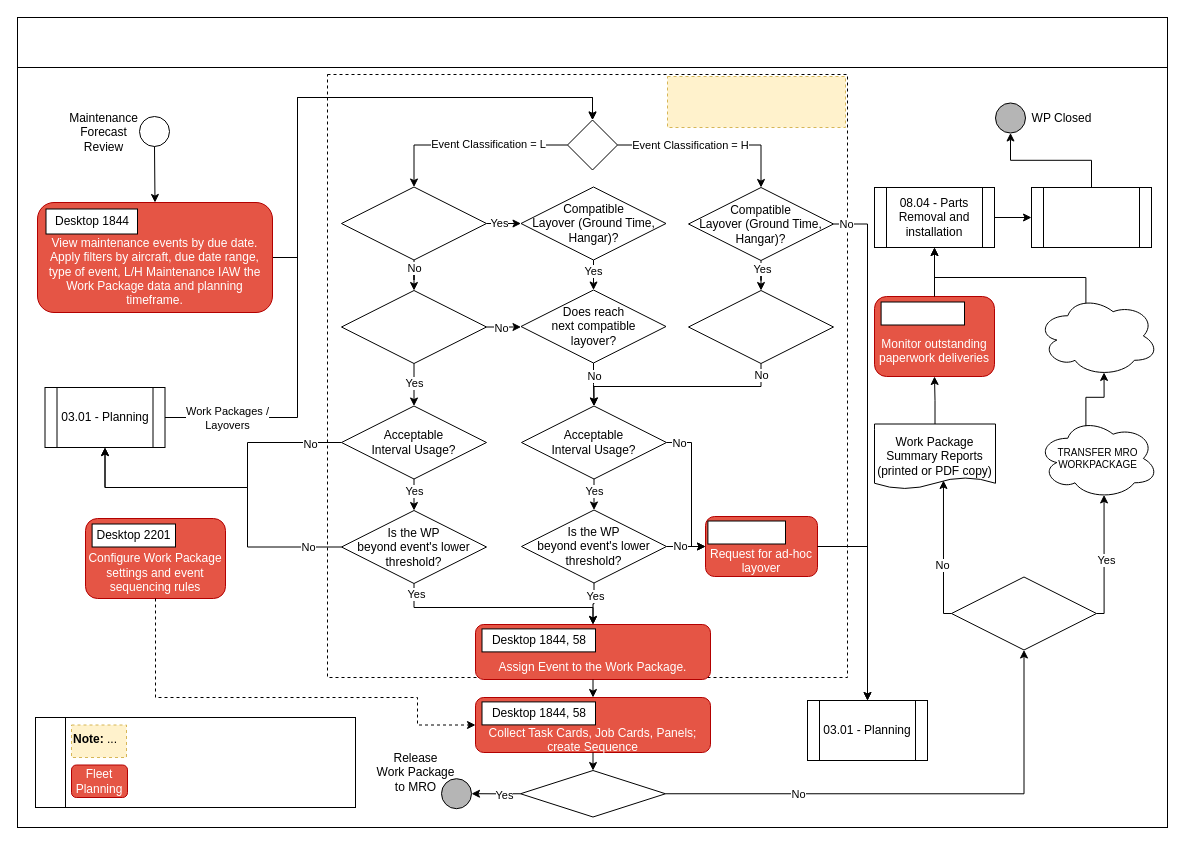
Some shapes in this 1185 by 845 pixel diagram are drawn without their labels. The shapes that lost their labels are listed below. From the top down, each one's centre as x and y in pixels, then its label:
At point (592, 42): "03.02 Work Package Generation".
At point (756, 102): "Assessment of each unplanned Maintenance Event against a Work Package".
At point (413, 223): "Hangar Required?".
At point (1091, 217): "03.03 - Reporting Back".
At point (413, 327): "Compatible Ground Time?".
At point (761, 327): "Does reach next compatible BM check?".
At point (922, 313): "Desktop 693".
At point (1097, 335): "TRANSFER MRO RESULTS".
At point (746, 532): "Desktop 869".
At point (1023, 613): "Transfer WP via Interface?".
At point (50, 762): "LEGEND".
At point (593, 793): "Internal MRO?".
